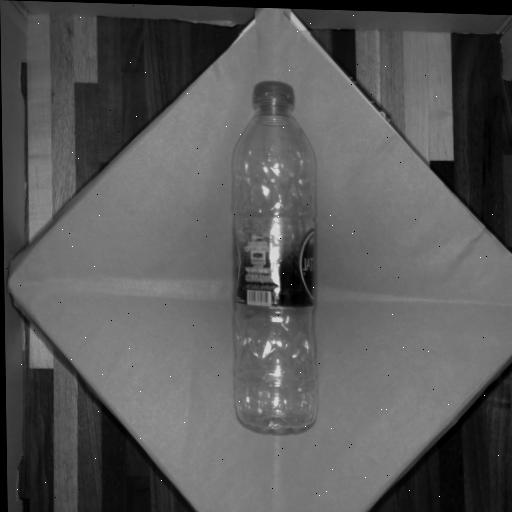bottle: (229, 78, 320, 434)
